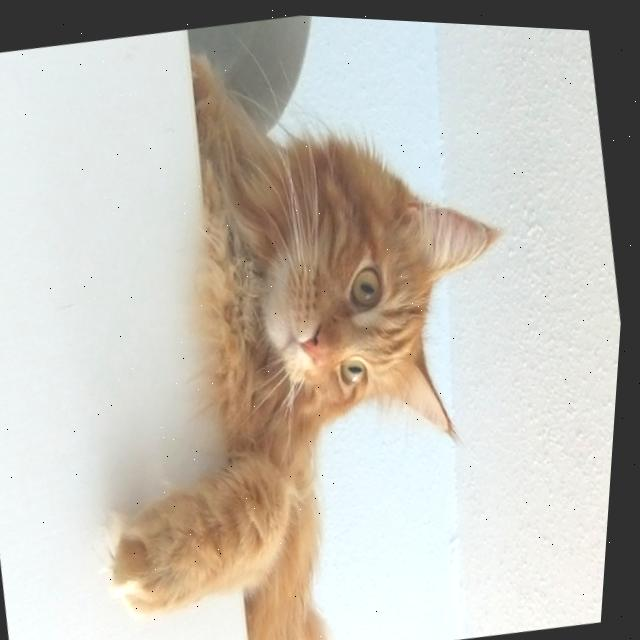Maine Coon: (25, 2, 584, 640)
